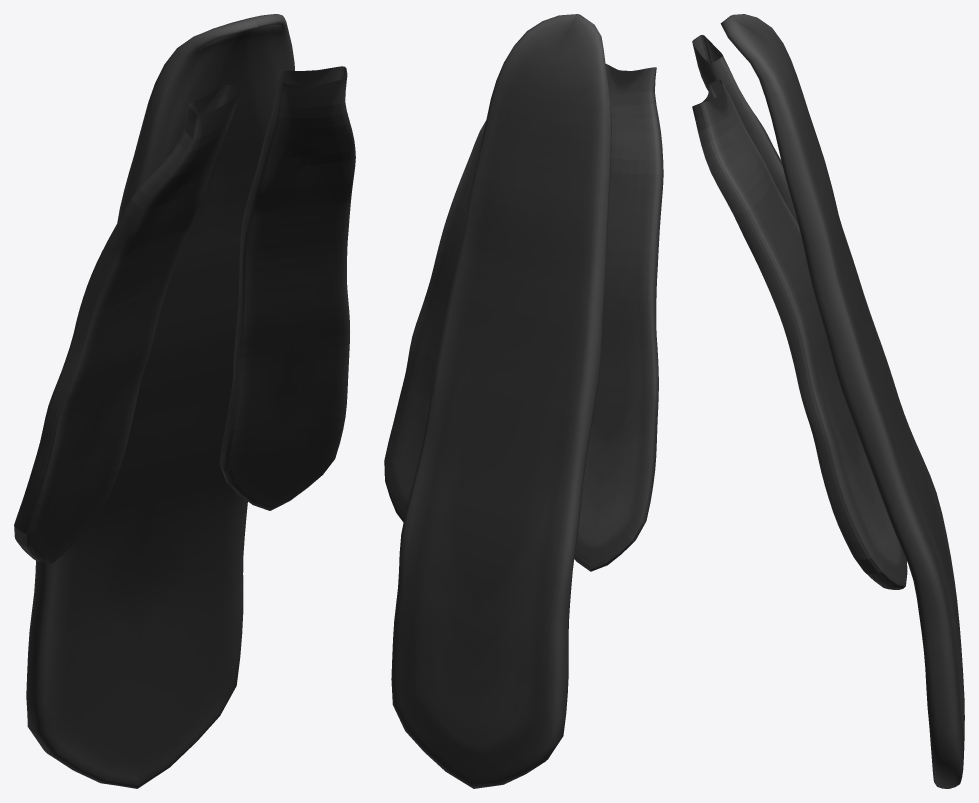
Rendered from ShiliOutfitBack.fbx.
3 renders of one model, left to right at view 1: azimuth 30°, elevation 25°; view 2: azimuth 150°, elevation 25°; view 3: azimuth 270°, elevation 25°, orthographic. The views are drawn at different scales.
Parts seen in each view (by area): view 1: ShiliOutfitBack; view 2: ShiliOutfitBack; view 3: ShiliOutfitBack.
Boxes of the visible parts, x1=… form: ShiliOutfitBack: x1=14, y1=14, x2=355, y2=788; ShiliOutfitBack: x1=384, y1=14, x2=663, y2=788; ShiliOutfitBack: x1=692, y1=14, x2=964, y2=788.
Bounding box in the file's own units: 0.2126 × 0.5491 × 0.1773.
